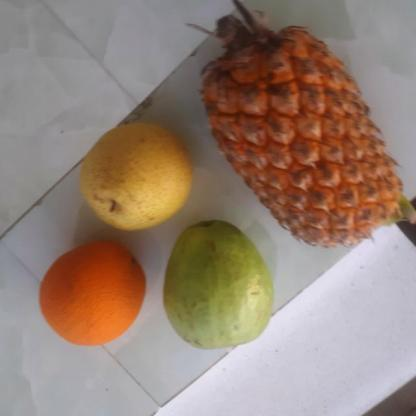guava: (162, 222, 277, 353)
orange: (36, 238, 150, 345)
pear: (79, 123, 197, 232)
pineapple: (209, 20, 412, 246)
